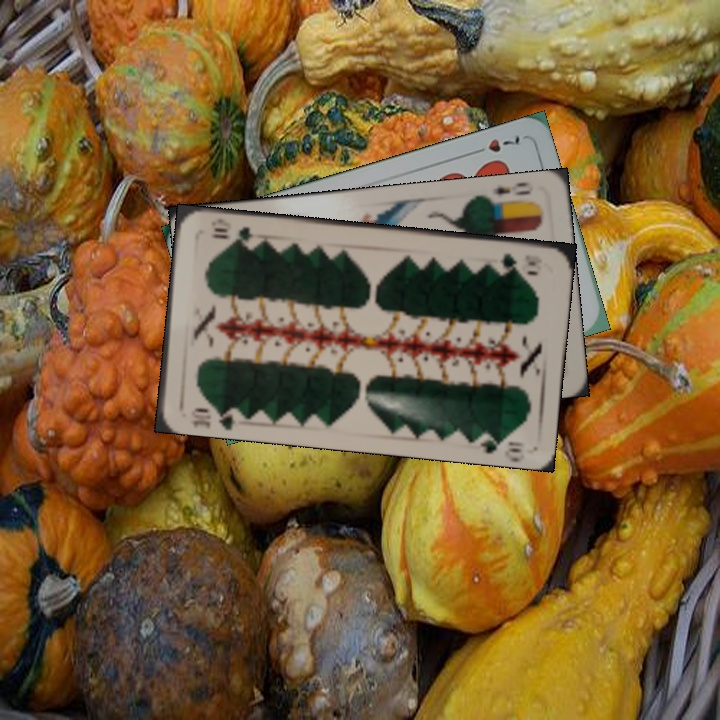EO: (484, 179, 533, 209)
G10: (187, 401, 241, 431), (497, 249, 538, 273)
H7: (467, 130, 523, 158)
